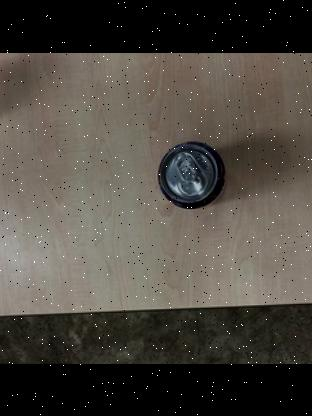Can: (152, 140, 230, 210)
